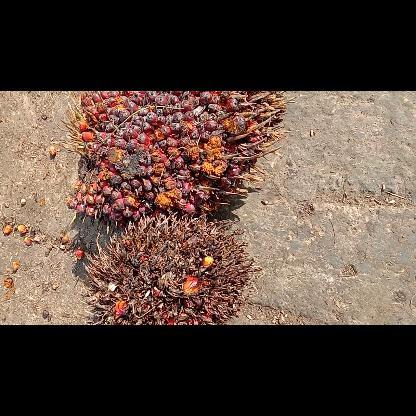TBS masak: (56, 90, 288, 232)
Terlalu masak: (86, 212, 260, 324)
